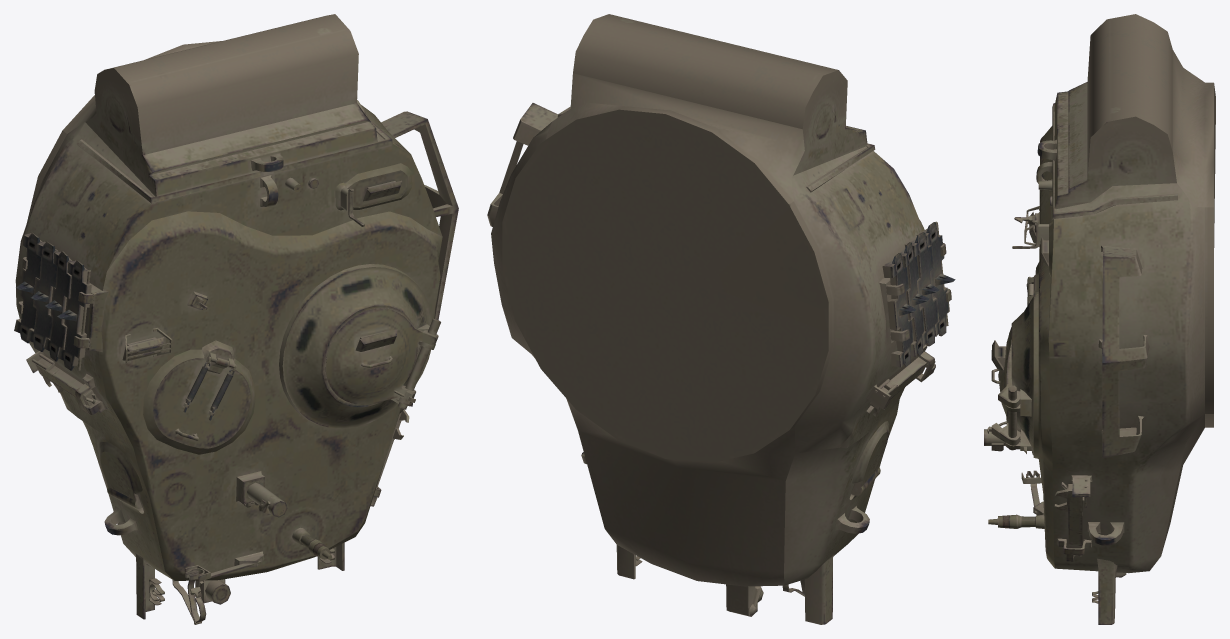
File: Turret_01.glb
3 renders of one model, left to right at view 1: azimuth 30°, elevation 25°; view 2: azimuth 150°, elevation 25°; view 3: azimuth 270°, elevation 25°, orthographic. The views are drawn at different scales.
Visible parts, largest first — view 1: set_0_group_0; view 2: set_0_group_0; view 3: set_0_group_0.
Part boxes in pixels (x1=…): set_0_group_0: x1=14, y1=14, x2=458, y2=624; set_0_group_0: x1=487, y1=14, x2=955, y2=624; set_0_group_0: x1=984, y1=14, x2=1215, y2=624.
Size of the model in its own units: 2.63 by 3.26 by 1.32.
Materials: 1 (1 with a texture image).
